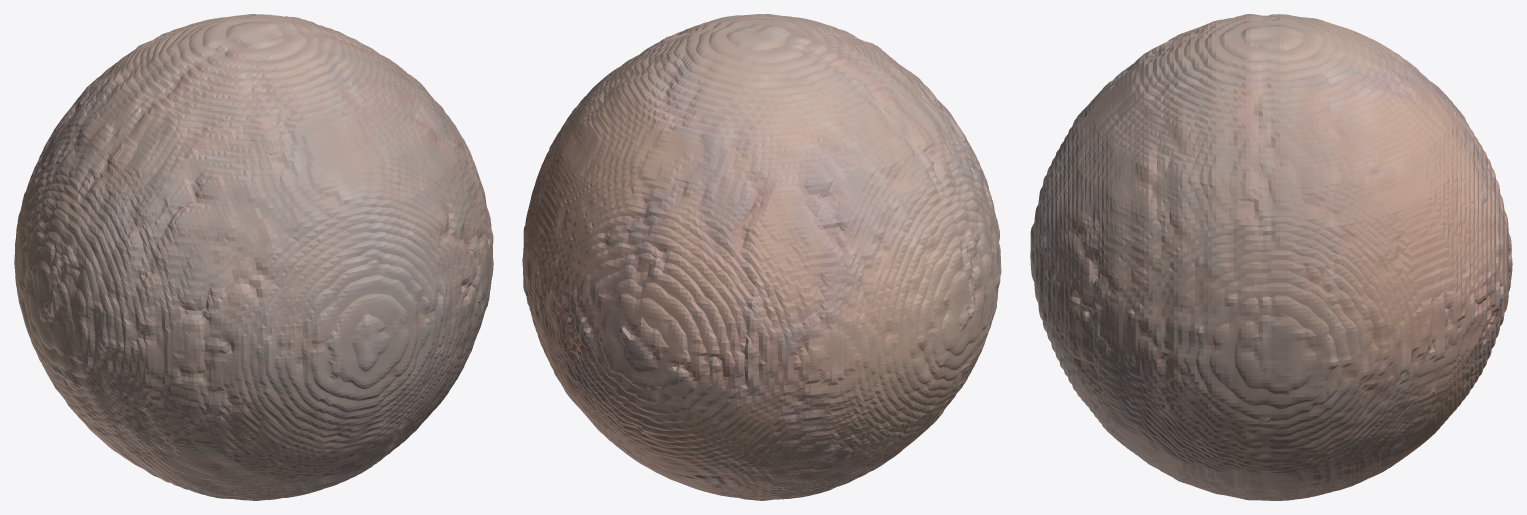
The picture shows the model from 3 angles, left to right: view 1: azimuth 30°, elevation 25°; view 2: azimuth 150°, elevation 25°; view 3: azimuth 270°, elevation 25°; orthographic projection.
Parts seen in each view (by area): view 1: world; view 2: world; view 3: world.
Part boxes in pixels (<box>): world: <box>14,14,493,500</box>; world: <box>522,14,1001,500</box>; world: <box>1030,14,1512,500</box>.
Size of the model in its own units: 0.776 by 0.7947 by 0.7762.
